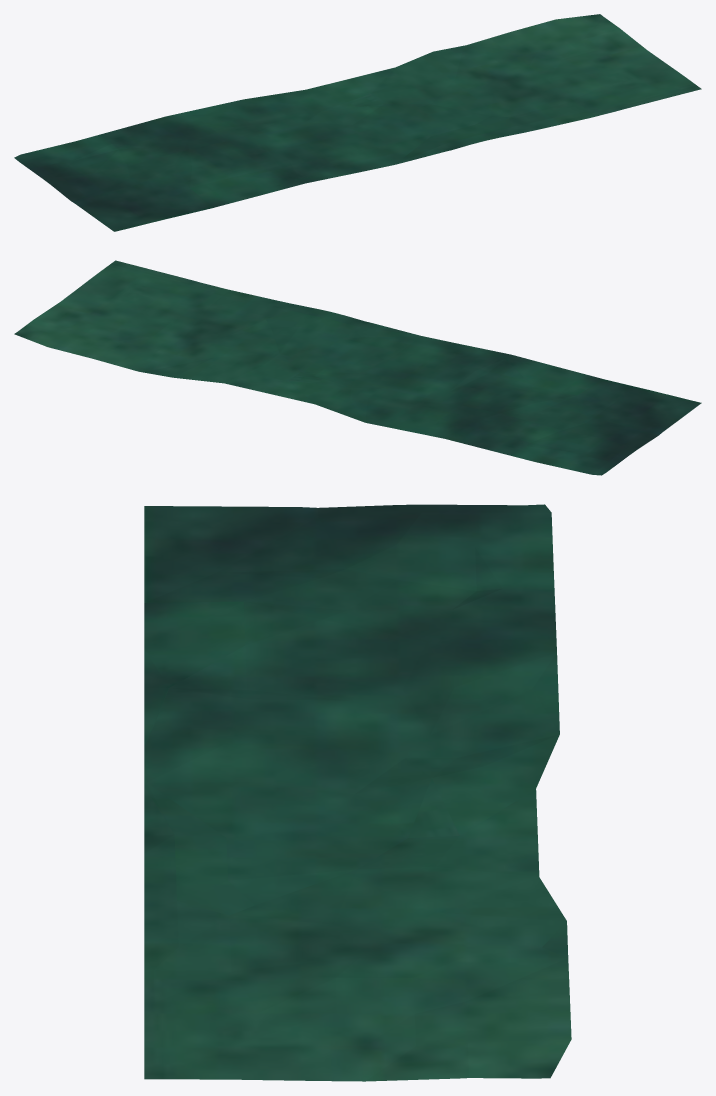
3 views of the same model, one above another, from view 1: azimuth 30°, elevation 25°; view 2: azimuth 150°, elevation 25°; view 3: azimuth 270°, elevation 25° (orthographic). The views are drawn at different scales.
Size of the model in its own units: 52.22 by 0.4815 by 16.47.
Materials: 1 (1 with a texture image).
